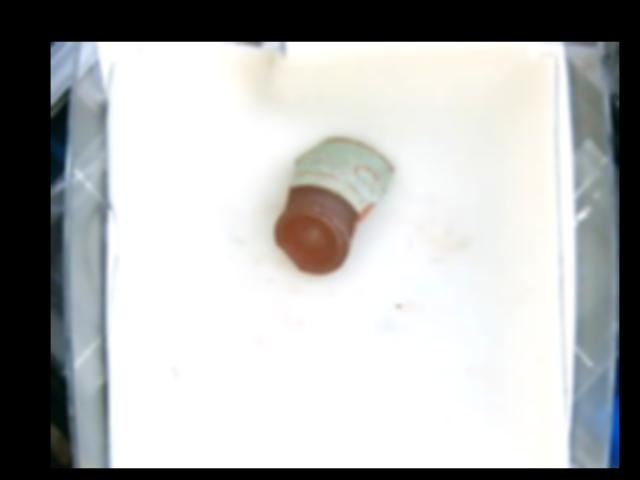China: (274, 137, 392, 270)
